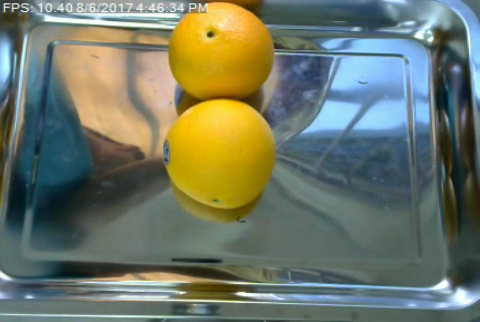Orange: (162, 99, 276, 207), (166, 0, 271, 99)
